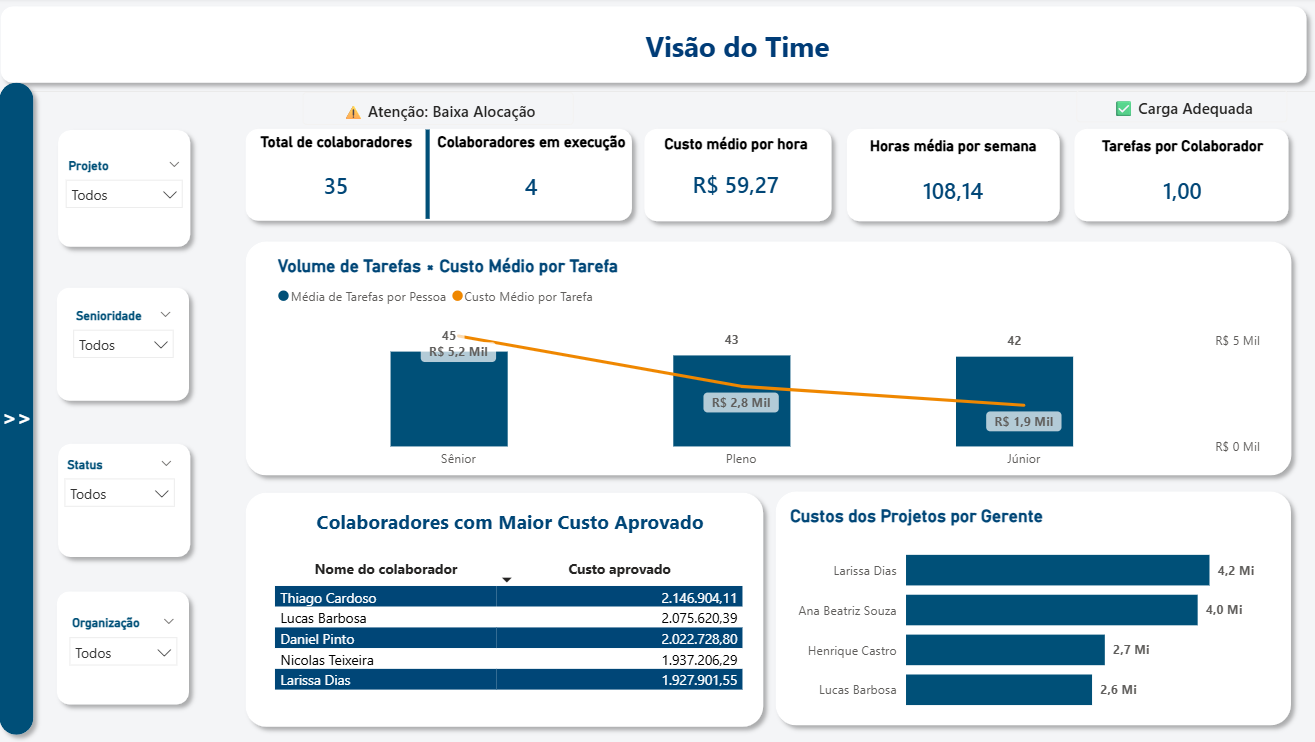

The page's visual inventory and layout, read from the dashboard file:
{"tool":"powerbi","page":{"name":"Pessoas","canvas":[1280,720],"ordinal":4},"visuals":[{"type":"shape","box":[2.4,0,224,720],"z":0,"group":"g6"},{"type":"shape","box":[622,118,198.7,107.1],"z":0,"group":"g7"},{"type":"shape","box":[817.5,118,223.5,107.1],"z":0,"group":"g8"},{"type":"shape","box":[1037,118,224.7,107.1],"z":0,"group":"g11"},{"type":"shape","box":[237.5,118.8,390.9,106.6],"z":0,"group":"g13"},{"type":"shape","box":[56.2,120,145.6,130.7],"z":0,"group":"g5"},{"type":"shape","box":[238.2,226.5,1027.3,243.9],"z":0,"group":"g10"},{"type":"shape","box":[55.7,271.4,145.6,127.2],"z":0,"group":"g2"},{"type":"shape","box":[56.9,422,145.6,127.2],"z":0,"group":"g3"},{"type":"shape","box":[748.6,468.1,515.5,243.9],"z":0,"group":"g12"},{"type":"group","id":"g1","title":"Grupo 4","box":[238.2,469.1,517.6,244.1],"z":0,"group":"g9"},{"type":"shape","box":[238.2,469.1,517.6,244.1],"z":0,"group":"g1"},{"type":"shape","box":[56,565.1,145.6,127.2],"z":0,"group":"g4"},{"type":"cardVisual","title":"Colaboradores em execução","fields":{"Data":["Medidas.Colaboradores em Execução"]},"box":[422.1,132.6,200.8,82.3],"z":1000,"group":"g13"},{"type":"cardVisual","title":"Custo médio por hora","fields":{"Data":["Medidas.Custo Médio Horas (Tarefas em Execução)"]},"box":[638.2,133,163.8,76.2],"z":1000,"group":"g7"},{"type":"cardVisual","title":"Horas média por semana","fields":{"Data":["Medidas.Média Horas por Semana (Projetos Ativos)"]},"box":[842.1,135.2,175.2,83.1],"z":1000,"group":"g8"},{"type":"cardVisual","title":"Tarefas por Colaborador","fields":{"Data":["Medidas.Média de Tarefas por Pessoa"]},"box":[1061.7,135.2,176.2,83.1],"z":1000,"group":"g11"},{"type":"slicer","fields":{"Values":["dim_projeto.nome_projeto"]},"box":[62.1,151.1,133.3,77.2],"z":1000,"group":"g5"},{"type":"actionButton","box":[88.7,159,99,40.4],"z":1000,"group":"g6"},{"type":"lineStackedColumnComboChart","title":"Volume de Tarefas × Custo Médio por Tarefa","fields":{"Category":["dim_colaborador.senioridade"],"Y":["Medidas.Média de Tarefas por Pessoa"],"Y2":["Medidas.Custo Médio por Tarefa"]},"box":[273.5,249.4,959,214.2],"z":1000,"group":"g10"},{"type":"group","id":"g2","title":"Grupo 7","box":[55.7,271.4,147.1,125.7],"z":1000},{"type":"slicer","fields":{"Values":["dim_colaborador.senioridade"]},"box":[69.9,295.8,117.5,78.9],"z":1000,"group":"g2"},{"type":"slicer","fields":{"Values":["dim_projeto.status"]},"box":[62.1,438.6,126.7,86.7],"z":1000,"group":"g3"},{"type":"textbox","box":[304.4,488.5,396.1,39.2],"z":1000,"group":"g9"},{"type":"barChart","title":"Custos dos Projetos por Gerente","fields":{"Y":["Sum(fato_financeiro_mensal.custo_realizado_rs)"],"Category":["dim_gerente.nome_gerente"]},"box":[766.3,491,481.2,214.2],"z":1000,"group":"g12"},{"type":"pivotTable","fields":{"Values":["Sum(fato_financeiro_mensal.custo_planejado_rs)"],"Rows":["dim_colaborador.nome_colaborador"]},"box":[271.2,535.9,463.1,160.7],"z":1000,"group":"g1"},{"type":"slicer","fields":{"Values":["dim_projeto.departamento","dim_gerente.nome_gerente"]},"box":[66.6,592.7,124.3,76],"z":1000,"group":"g4"},{"type":"image","box":[0,0,223.8,167.5],"z":1500,"group":"g6"},{"type":"cardVisual","fields":{"Data":["Medidas.Alerta Colaboradores Execucao"]},"box":[284.4,75.3,296.1,66.2],"z":2000},{"type":"shape","box":[350,128.8,145,86.2],"z":2000,"group":"g13"},{"type":"actionButton","box":[89,232.3,99,39.1],"z":2000,"group":"g6"},{"type":"shape","box":[1.5,0,1278.5,91.9],"z":3000},{"type":"image","box":[0,129.6,111.3,102.7],"z":3000,"group":"g6"},{"type":"cardVisual","title":"Total de colaboradores","fields":{"Data":["CountNonNull(dim_colaborador.colaborador_id)"]},"box":[245,132.6,178.8,81.2],"z":3000,"group":"g13"},{"type":"group","id":"g3","title":"Grupo 7","box":[56.9,422,145.6,127.2],"z":3250},{"type":"group","id":"g4","title":"Grupo 7","box":[56,565.1,145.9,127.5],"z":3500},{"type":"image","box":[0,0,223.8,167.5],"z":4000,"group":"g6"},{"type":"group","id":"g5","title":"Grupo 8","box":[56.2,120,146.2,130],"z":4000},{"type":"textbox","box":[589.2,23.8,265.2,52.4],"z":5000},{"type":"actionButton","box":[88.7,305.7,99,40.4],"z":5000,"group":"g6"},{"type":"group","id":"g6","title":"Grupo 1","box":[0,0,226.4,720],"z":6000},{"type":"image","box":[0,200.5,111.3,102.7],"z":6000,"group":"g6"},{"type":"image","box":[0,412.1,111.3,102.7],"z":7000,"group":"g6"},{"type":"group","id":"g7","title":"Grupo 5","box":[622,118,198.7,107.1],"z":8000},{"type":"actionButton","box":[89.9,375.4,99,39.1],"z":8000,"group":"g6"},{"type":"group","id":"g8","title":"Grupo 5","box":[817.5,118,224.5,108],"z":9000},{"type":"image","box":[0,349.4,112.9,91.8],"z":9000,"group":"g6"},{"type":"actionButton","box":[89.9,443.9,99,39.1],"z":10000,"group":"g6"},{"type":"group","id":"g9","title":"Grupo 13","box":[238.2,469.1,517.6,244.1],"z":10000},{"type":"group","id":"g10","title":"Grupo 11","box":[238.2,226.5,1025,245.6],"z":11000},{"type":"image","box":[0,280,112.9,91.8],"z":11000,"group":"g6"},{"type":"group","id":"g11","title":"Grupo 5","box":[1037,118,226,109.5],"z":12000},{"type":"actionButton","box":[132.4,648,72,56],"z":12000,"group":"g6"},{"type":"group","id":"g12","title":"Grupo 11","box":[748.6,468.1,515.3,244.4],"z":13000},{"type":"actionButton","box":[40.1,562.5,148,51.4],"z":13000,"group":"g6"},{"type":"group","id":"g13","title":"Grupo 5","box":[237.5,118.8,391.2,106.2],"z":14000},{"type":"cardVisual","fields":{"Data":["Medidas.Aviso Carga de Tarefas"]},"box":[1031.2,72.7,239,66.2],"z":15000}]}

Visuals, with their boxes in screenshot pixels (x1, y1, x2, y2), scaled from the page's 1280x720 canvas onto the 1315x742 screenshot:
shape: (2, 0, 233, 741)
shape: (639, 122, 843, 232)
shape: (840, 122, 1069, 232)
shape: (1065, 122, 1296, 232)
shape: (244, 122, 646, 232)
shape: (58, 124, 207, 258)
shape: (245, 233, 1300, 485)
shape: (57, 280, 207, 411)
shape: (58, 435, 208, 566)
shape: (769, 482, 1299, 734)
"Grupo 4" group: (245, 483, 776, 735)
shape: (245, 483, 776, 735)
shape: (58, 582, 207, 713)
"Colaboradores em execução" cardVisual: (434, 137, 640, 221)
"Custo médio por hora" cardVisual: (656, 137, 824, 216)
"Horas média por semana" cardVisual: (865, 139, 1045, 225)
"Tarefas por Colaborador" cardVisual: (1091, 139, 1272, 225)
slicer - dim_projeto.nome_projeto: (64, 156, 201, 235)
actionButton: (91, 164, 193, 205)
"Volume de Tarefas × Custo Médio por Tarefa" lineStackedColumnComboChart: (281, 257, 1266, 478)
"Grupo 7" group: (57, 280, 208, 409)
slicer - dim_colaborador.senioridade: (72, 305, 193, 386)
slicer - dim_projeto.status: (64, 452, 194, 541)
textbox: (313, 503, 720, 544)
"Custos dos Projetos por Gerente" barChart: (787, 506, 1282, 727)
pivotTable - Sum(fato_financeiro_mensal.custo_planejado_rs) x dim_colaborador.nome_colaborador: (279, 552, 754, 718)
slicer - dim_projeto.departamento x dim_gerente.nome_gerente: (68, 611, 196, 689)
image: (0, 0, 230, 173)
cardVisual - Medidas.Alerta Colaboradores Execucao: (292, 78, 596, 146)
shape: (360, 133, 509, 222)
actionButton: (91, 239, 193, 280)
shape: (2, 0, 1314, 95)
image: (0, 134, 114, 239)
"Total de colaboradores" cardVisual: (252, 137, 435, 220)
"Grupo 7" group: (58, 435, 208, 566)
"Grupo 7" group: (58, 582, 207, 714)
image: (0, 0, 230, 173)
"Grupo 8" group: (58, 124, 208, 258)
textbox: (605, 25, 878, 79)
actionButton: (91, 315, 193, 357)
"Grupo 1" group: (0, 0, 233, 741)
image: (0, 207, 114, 312)
image: (0, 425, 114, 531)
"Grupo 5" group: (639, 122, 843, 232)
actionButton: (92, 387, 194, 427)
"Grupo 5" group: (840, 122, 1070, 233)
image: (0, 360, 116, 455)
actionButton: (92, 457, 194, 498)
"Grupo 13" group: (245, 483, 776, 735)
"Grupo 11" group: (245, 233, 1298, 487)
image: (0, 289, 116, 383)
"Grupo 5" group: (1065, 122, 1298, 234)
actionButton: (136, 668, 210, 726)
"Grupo 11" group: (769, 482, 1298, 734)
actionButton: (41, 580, 193, 633)
"Grupo 5" group: (244, 122, 646, 232)
cardVisual - Medidas.Aviso Carga de Tarefas: (1059, 75, 1305, 143)
